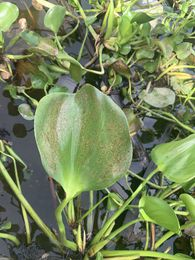water_hyacinth: (1, 1, 195, 260)
